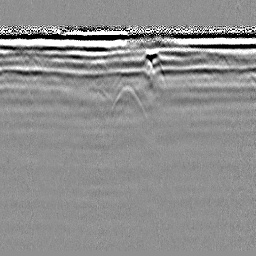cavity: (106, 82, 150, 122)
